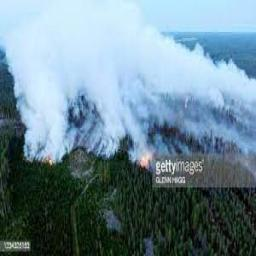Low smoke: (13, 0, 253, 159)
